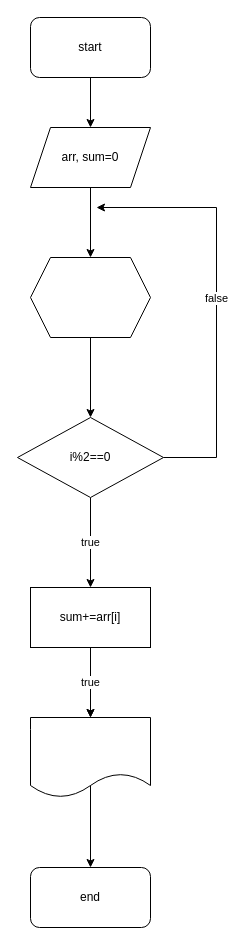
Some shapes in this 245 by 945 pixel diagram are drawn without their labels. The shapes that lost their labels are listed below. From the top down, each one's box as (x1, y1, x2, y2) in pixels, then its label:
(30, 256, 150, 338): i=0; i<arr.length; i++
(30, 716, 150, 798): summ*sum
